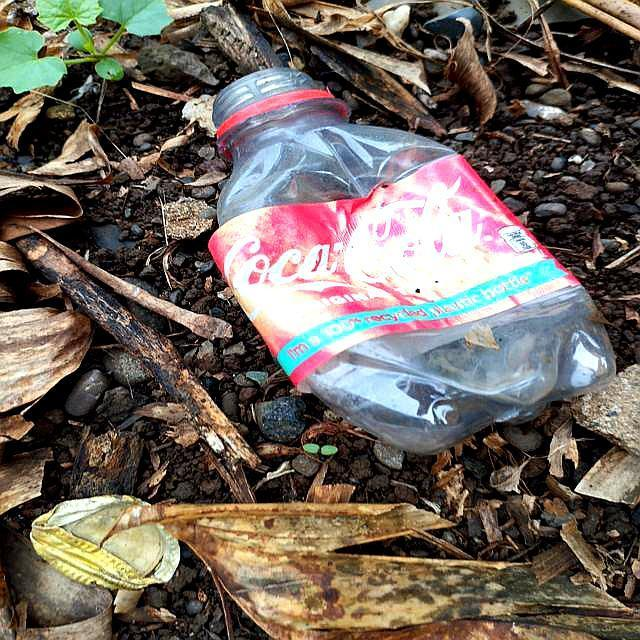Non-biodegradable: (107, 43, 640, 495)
